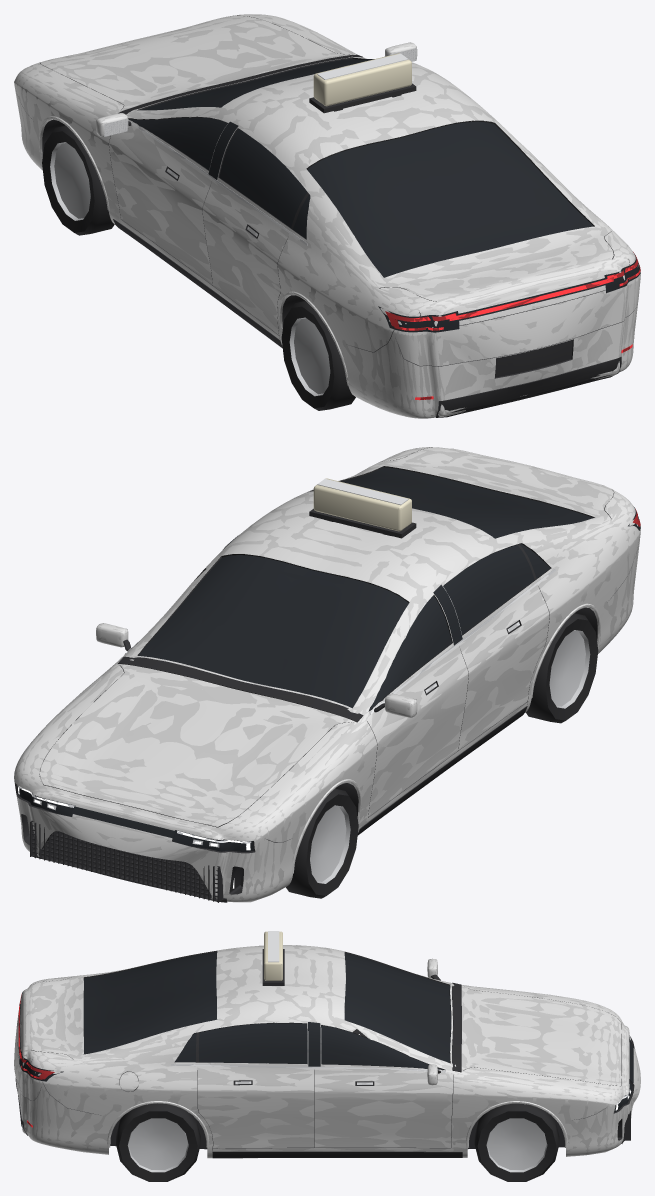
The model's file is road_taxi.glb.
The picture shows the model from 3 angles, top to bottom: view 1: azimuth 30°, elevation 25°; view 2: azimuth 150°, elevation 25°; view 3: azimuth 270°, elevation 25°; orthographic projection. The views are drawn at different scales.
Visible parts, largest first — view 1: road_taxi, road_taxi_far; view 2: road_taxi, road_taxi_far; view 3: road_taxi, road_taxi_far.
Part boxes in pixels (x1=…): road_taxi: x1=14, y1=14, x2=640, y2=418; road_taxi_far: x1=14, y1=14, x2=640, y2=418; road_taxi: x1=14, y1=447, x2=640, y2=902; road_taxi_far: x1=14, y1=447, x2=640, y2=901; road_taxi: x1=14, y1=931, x2=640, y2=1158; road_taxi_far: x1=14, y1=931, x2=640, y2=1181.
Size of the model in its own units: 2.17 by 1.64 by 4.95.
